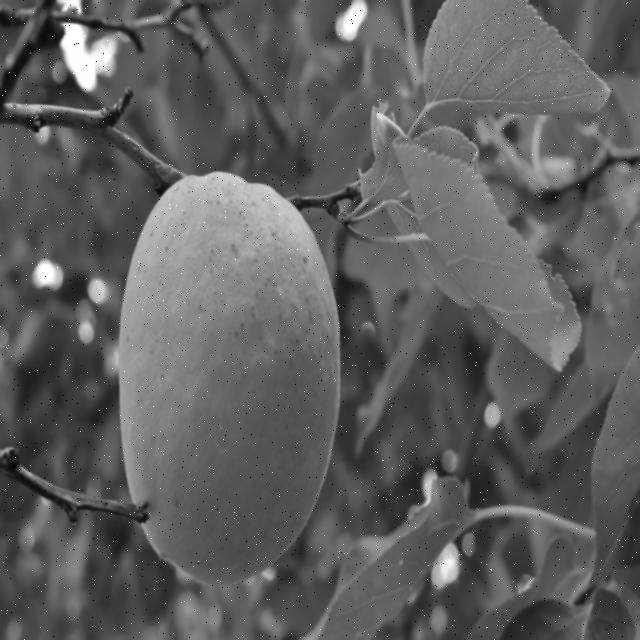Kayisi: (123, 173, 341, 580)
Kayisi Yapragi: (393, 127, 585, 371), (423, 0, 616, 110)
